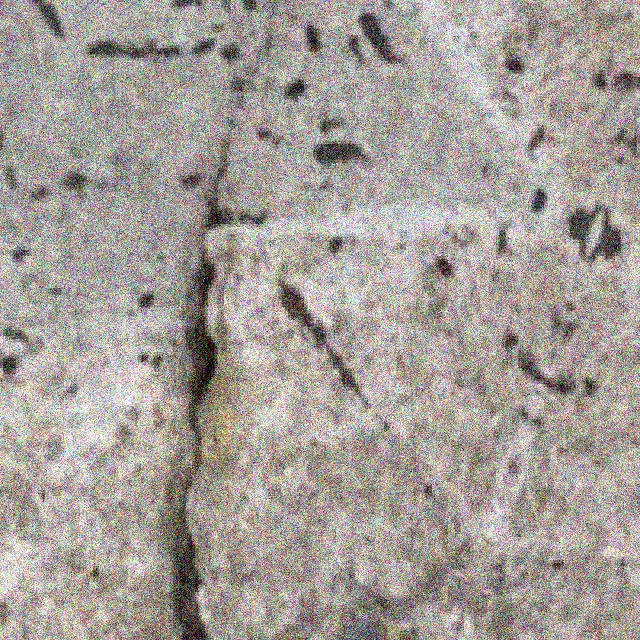SurfaceCrack: (124, 86, 288, 640)
